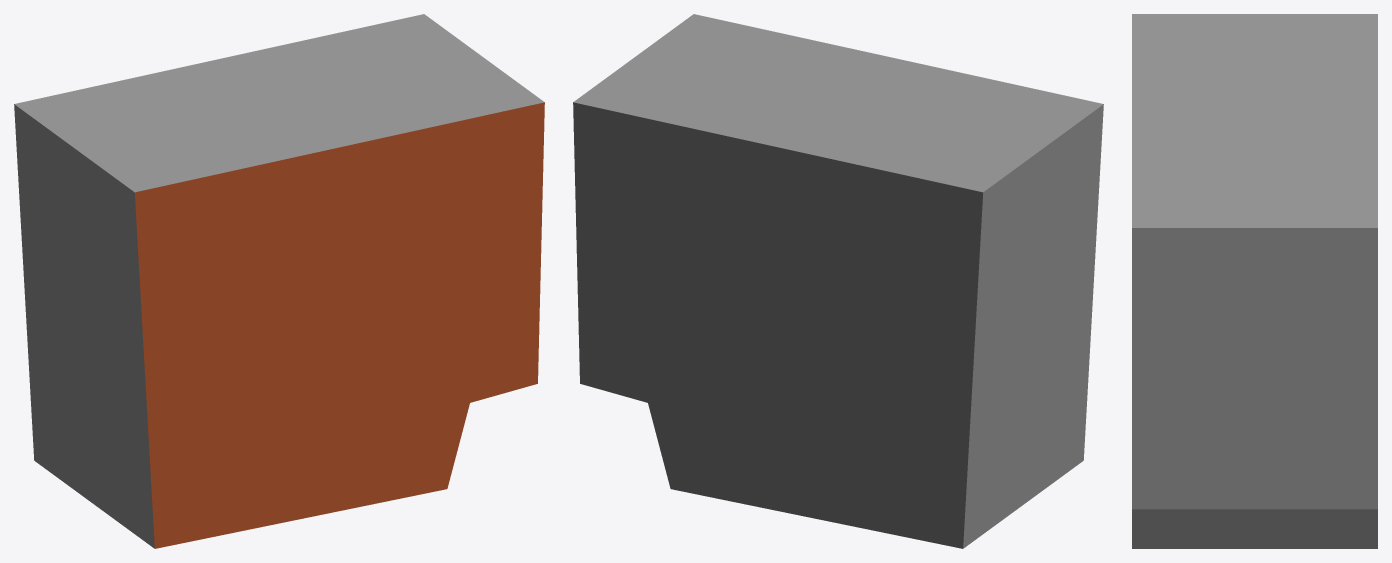
The model's file is construction_3044_assumed_A_Casa_h6m.obj.
The picture shows the model from 3 angles, left to right: view 1: azimuth 30°, elevation 25°; view 2: azimuth 150°, elevation 25°; view 3: azimuth 270°, elevation 25°; orthographic projection.
Visible parts, largest first — view 1: construction_3044_assumed_A_Casa; view 2: construction_3044_assumed_A_Casa; view 3: construction_3044_assumed_A_Casa.
Part boxes in pixels (x1,y1,x2,y2): construction_3044_assumed_A_Casa: [14, 14, 544, 548]; construction_3044_assumed_A_Casa: [573, 14, 1103, 548]; construction_3044_assumed_A_Casa: [1132, 14, 1377, 548].
Bounding box in the file's own units: 11.77 × 10.23 × 6.
